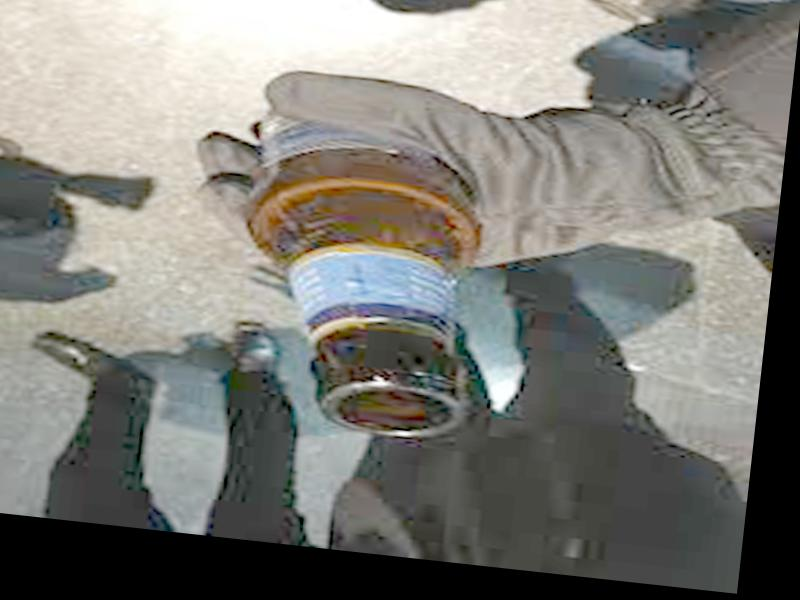Beer: (212, 85, 502, 444)
